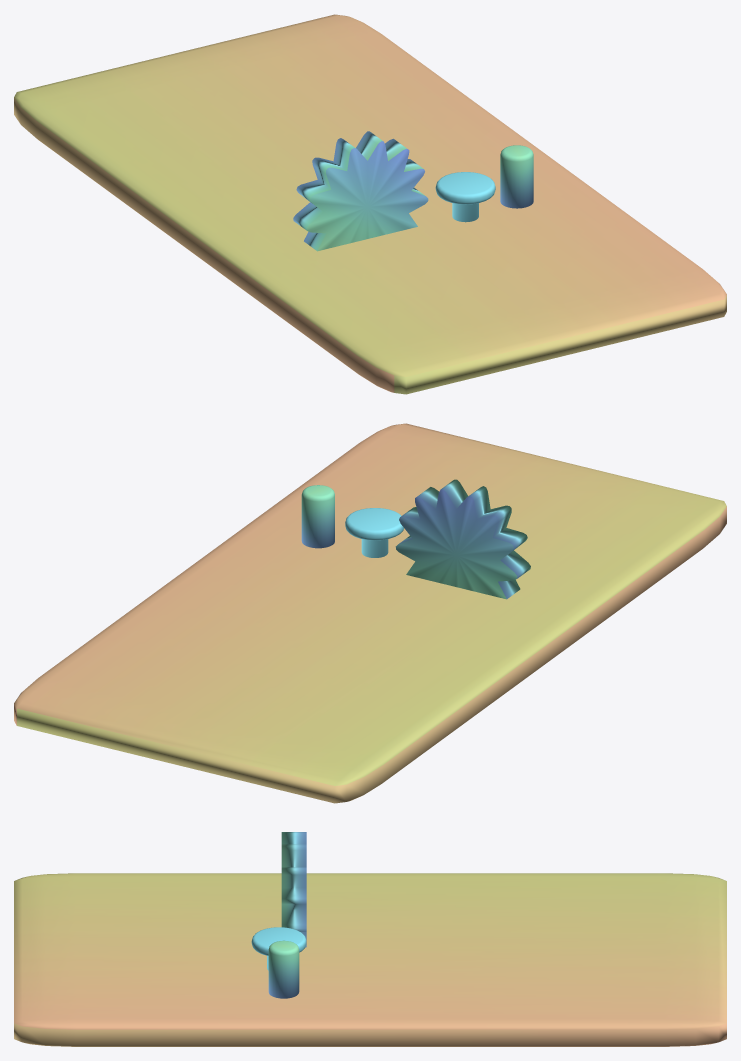
Rendered from P.prisma.fbx.
The picture shows the model from 3 angles, top to bottom: view 1: azimuth 30°, elevation 25°; view 2: azimuth 150°, elevation 25°; view 3: azimuth 270°, elevation 25°; orthographic projection. The views are drawn at different scales.
Parts seen in each view (by area): view 1: Cube, Cylinder, Cylinder.001, Cylinder.002; view 2: Cube, Cylinder, Cylinder.002, Cylinder.001; view 3: Cube, Cylinder, Cylinder.002, Cylinder.001.
Boxes of the visible parts, x1,y1,x2,y2 form: Cube: (14,14,726,394); Cylinder: (293,131,428,251); Cylinder.001: (435,172,495,222); Cylinder.002: (500,145,533,208); Cube: (14,423,726,803); Cylinder: (395,479,530,599); Cylinder.002: (301,485,334,548); Cylinder.001: (345,508,403,557); Cube: (14,873,726,1046); Cylinder: (281,832,306,947); Cylinder.002: (268,940,299,998); Cylinder.001: (251,927,306,970).
Bounding box in the file's own units: 2291 × 796 × 4446.
